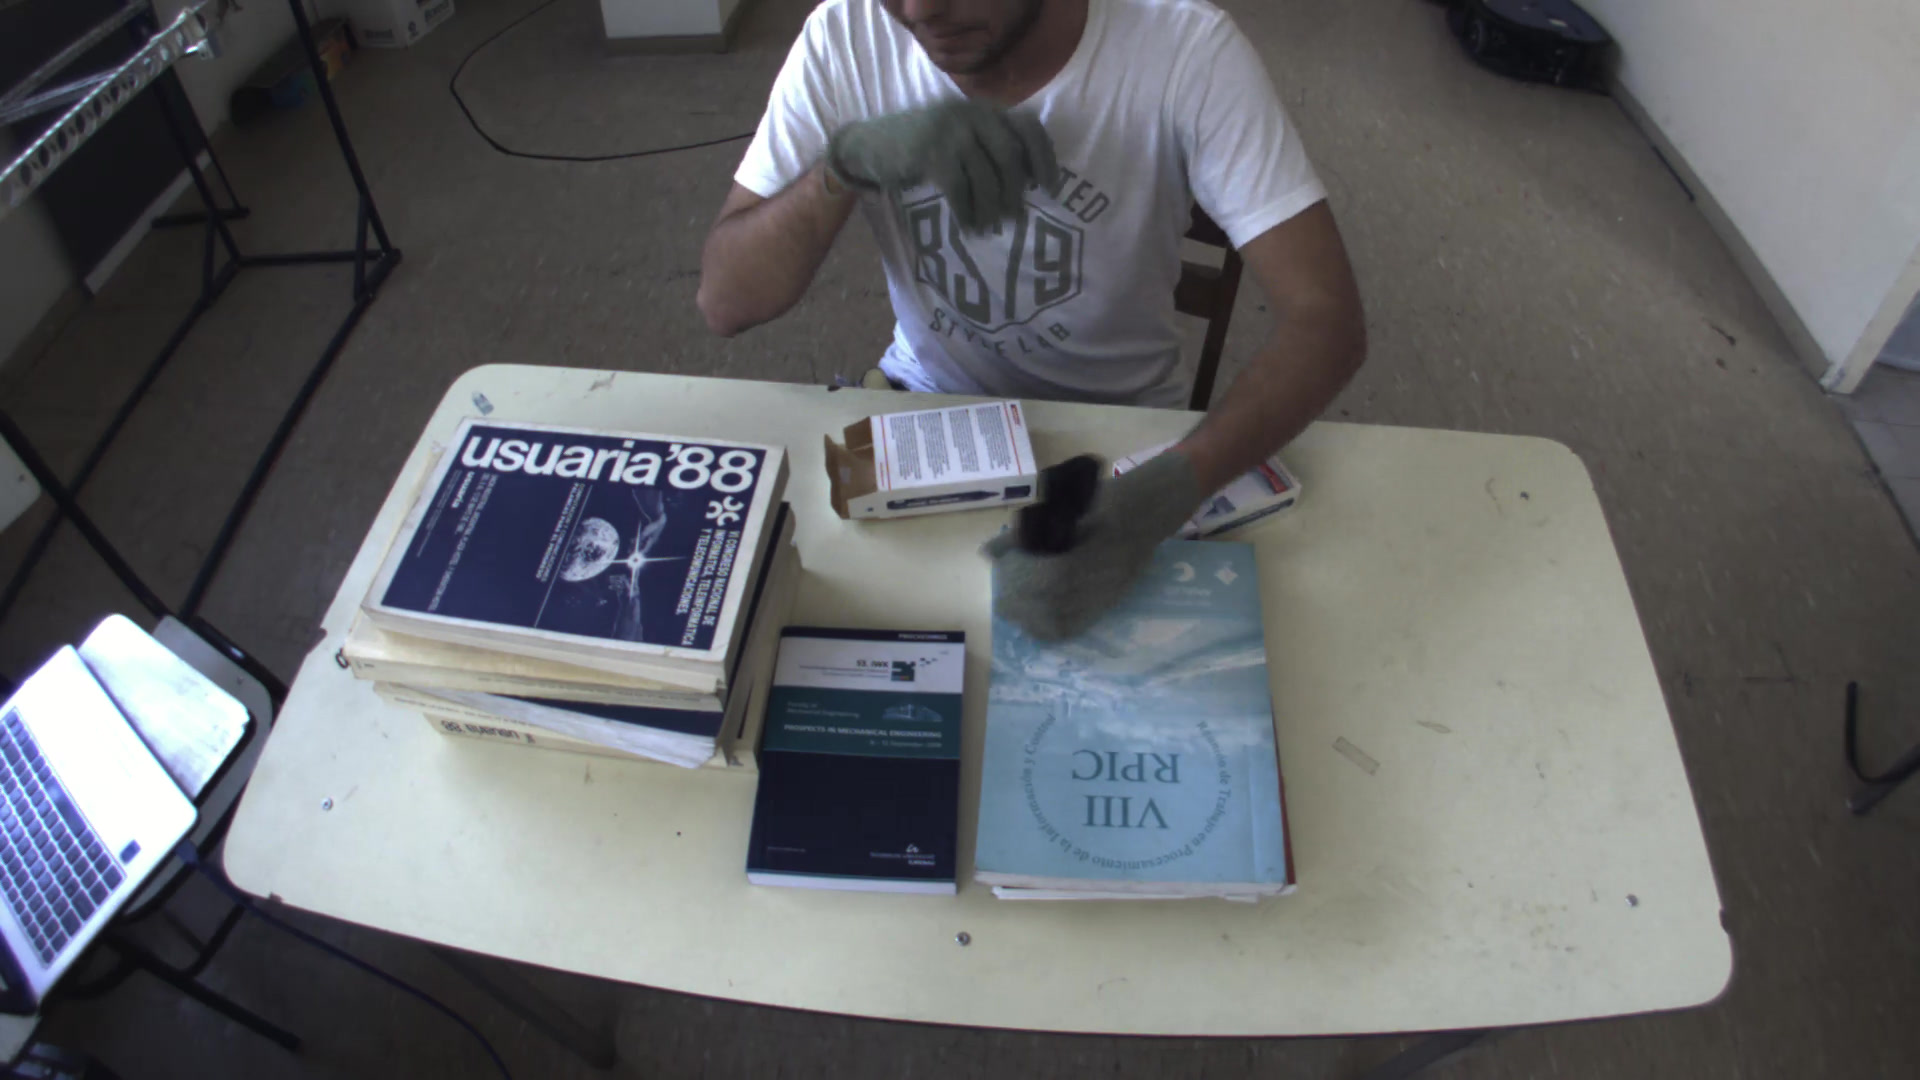hand: (984, 444, 1211, 647), (827, 86, 1067, 225)
